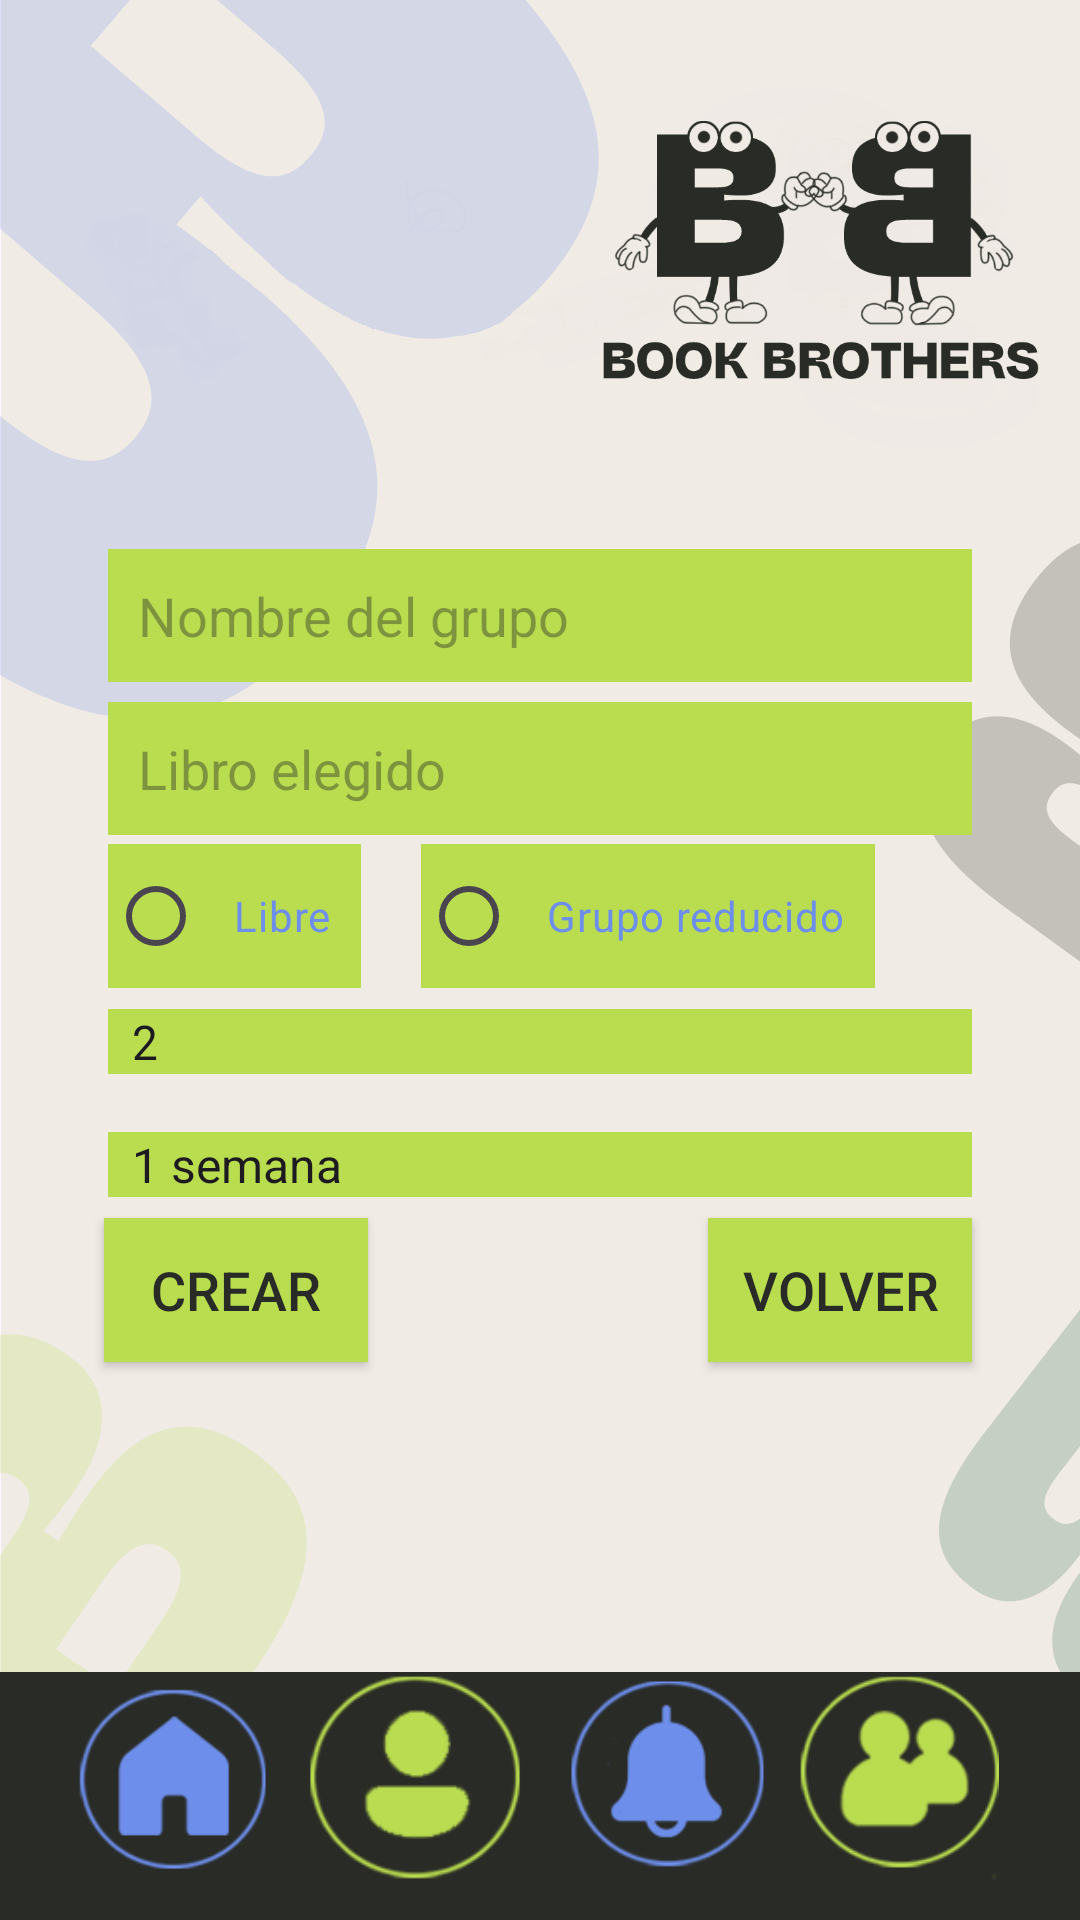

Icon click points for this 1080 × 1920 phone screenshot, format point (x, y):
amigos home: point (899, 1772)
home: point (172, 1779)
notificaciones home: point (667, 1774)
perfil home: point (415, 1777)
